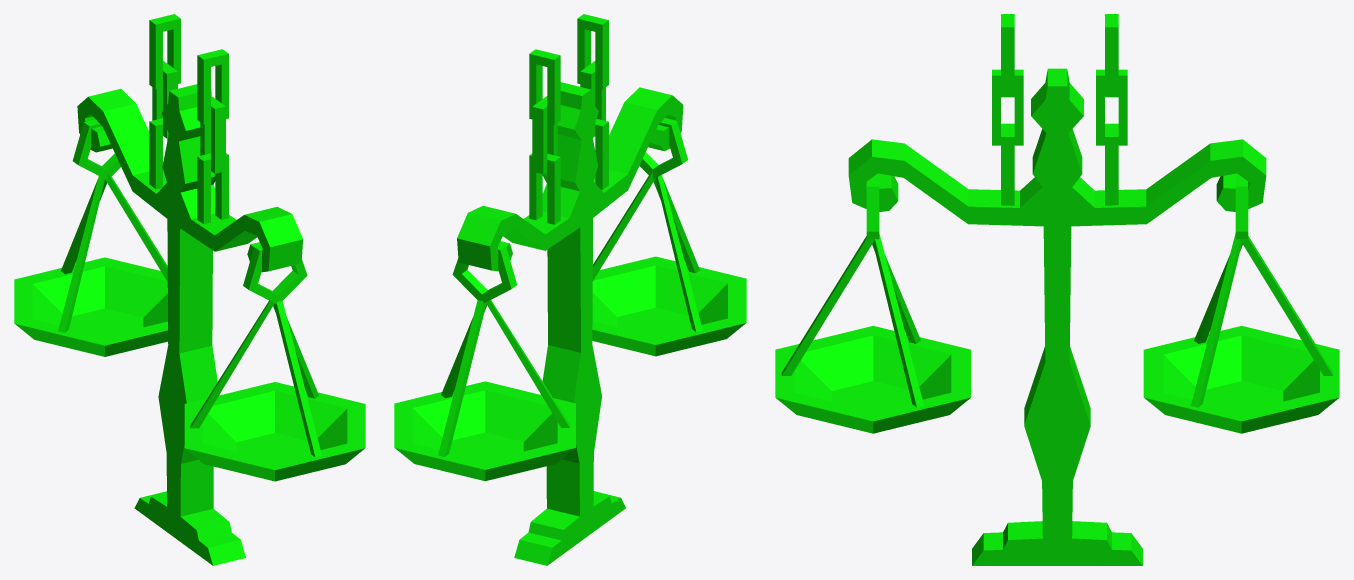
The model's file is SM_Signboard_Scales_Fantasy.fbx.
3 renders of one model, left to right at view 1: azimuth 30°, elevation 25°; view 2: azimuth 150°, elevation 25°; view 3: azimuth 270°, elevation 25°, orthographic. The views are drawn at different scales.
Parts seen in each view (by area): view 1: singboard-scales-fantasy; view 2: singboard-scales-fantasy; view 3: singboard-scales-fantasy.
Boxes of the visible parts, x1,y1,x2,y2 form: singboard-scales-fantasy: (14, 14, 365, 565); singboard-scales-fantasy: (394, 14, 746, 565); singboard-scales-fantasy: (775, 14, 1339, 565).
Size of the model in its own units: 0.4815 by 1.26 by 1.2.
